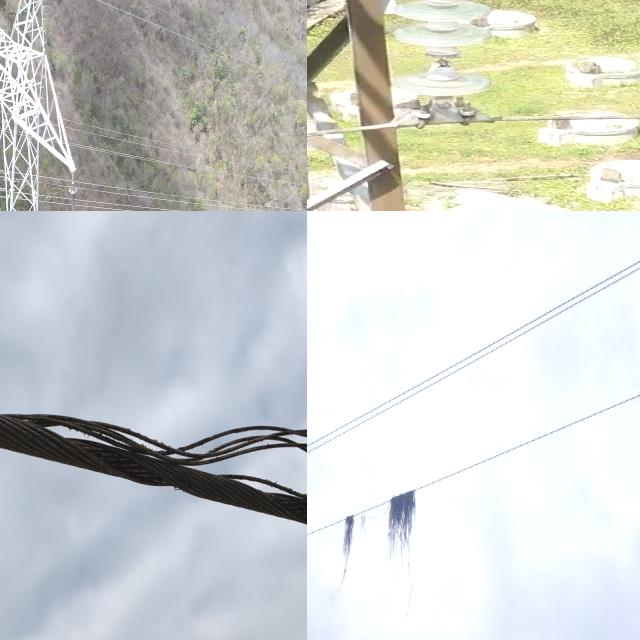杆塔: (307, 0, 515, 211), (0, 0, 94, 211)
植被遮挡: (385, 481, 419, 618), (331, 509, 357, 597)
正常绝缘子: (372, 0, 496, 130), (63, 172, 82, 211)
电缆破损: (8, 358, 307, 557)
绝缘子破损: (423, 50, 461, 73)
